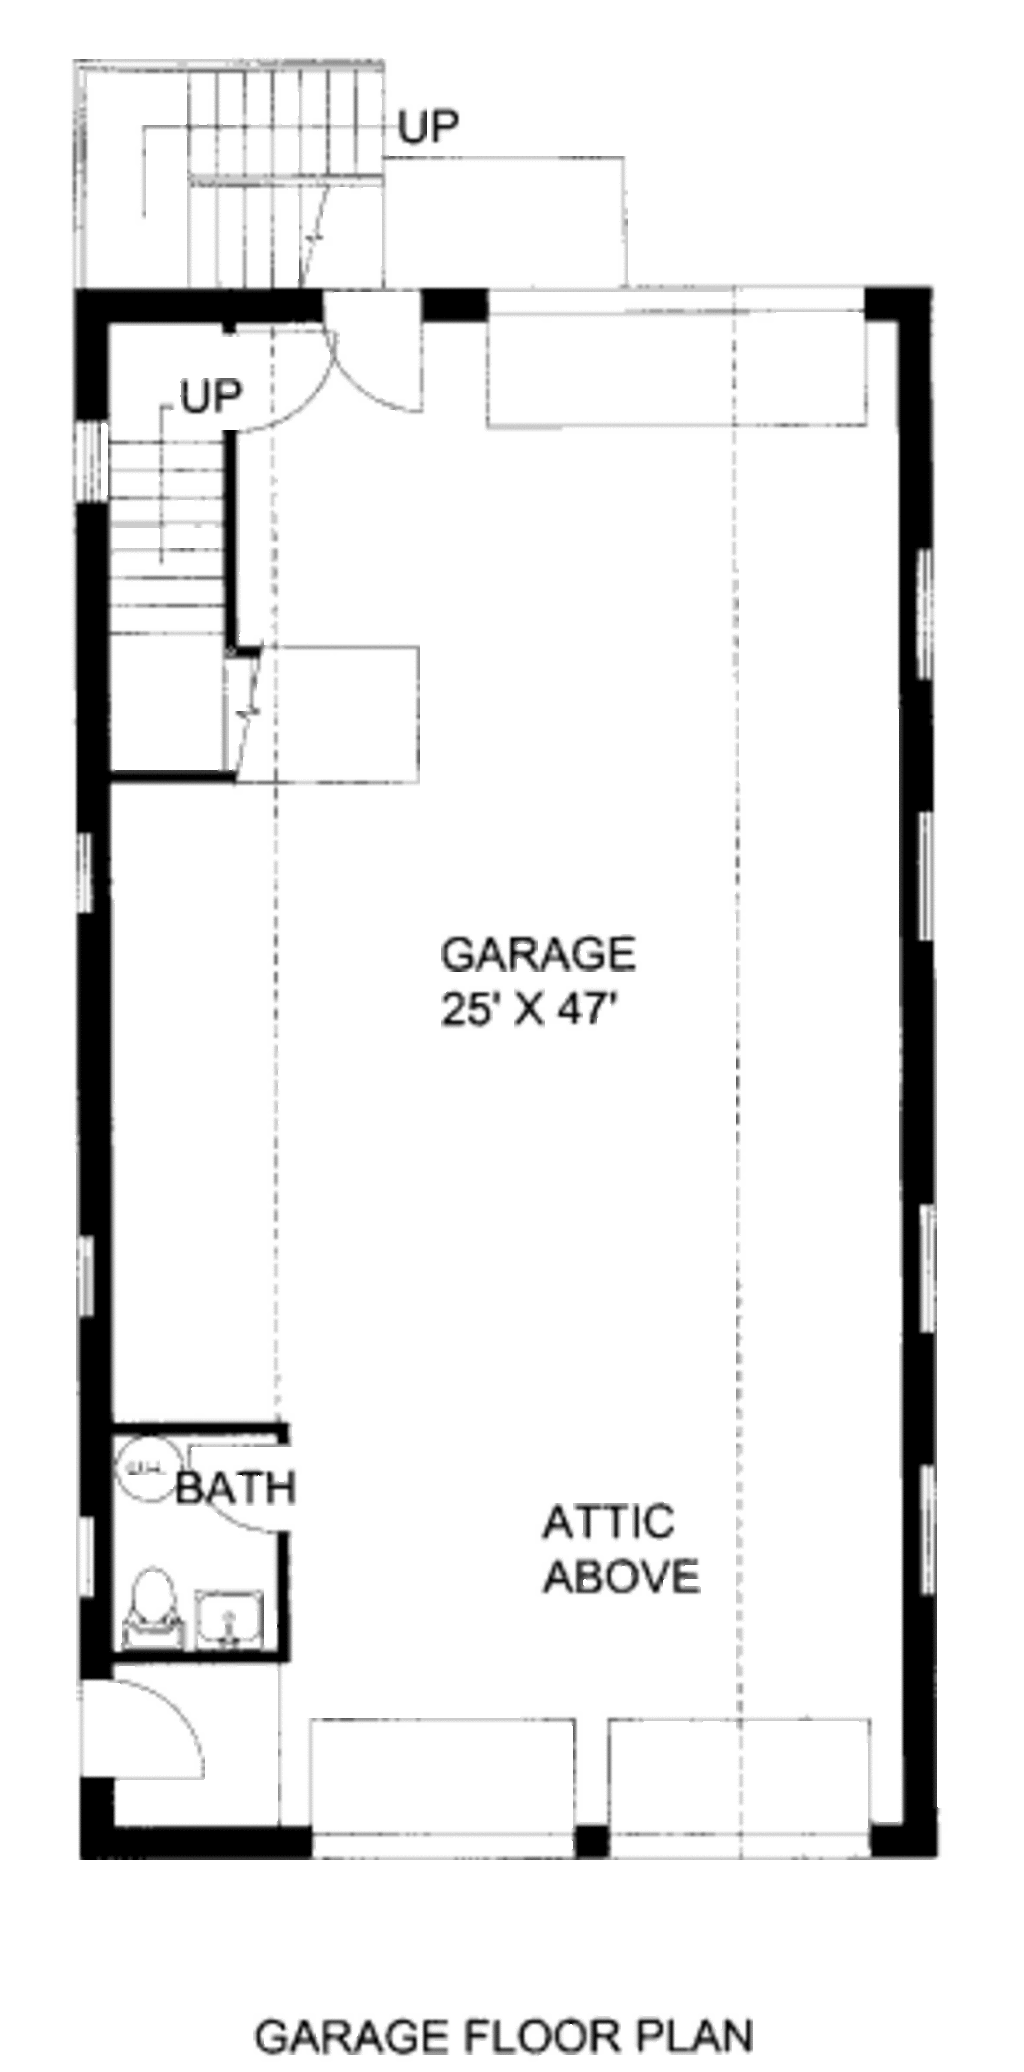door: (307, 287, 458, 429), (188, 1417, 313, 1555), (77, 1681, 219, 1787), (203, 320, 345, 423)
large_sink: (110, 1562, 188, 1654)
small_sink: (200, 1555, 281, 1658)
stairs: (110, 429, 432, 792), (29, 49, 445, 293)
window: (891, 539, 953, 681), (63, 414, 139, 529), (61, 1226, 106, 1329), (910, 803, 942, 940), (920, 1477, 955, 1598), (58, 826, 103, 913), (58, 1510, 96, 1609), (920, 1187, 939, 1349)
